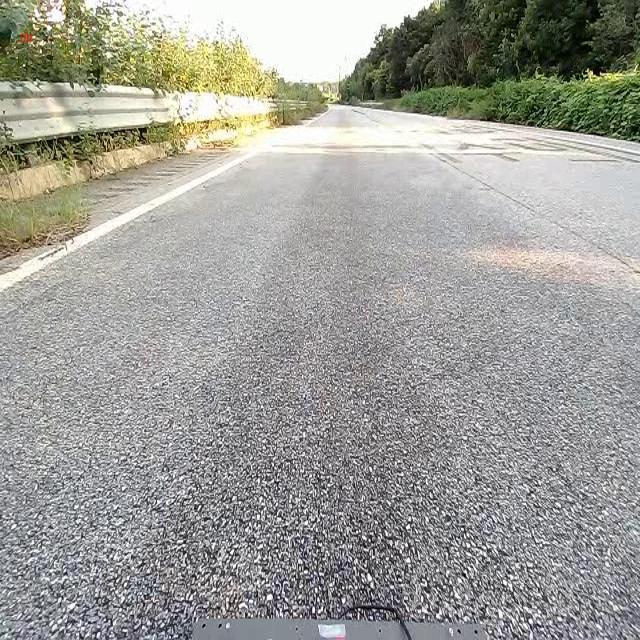Lane: (0, 143, 274, 296), (0, 147, 268, 292)
